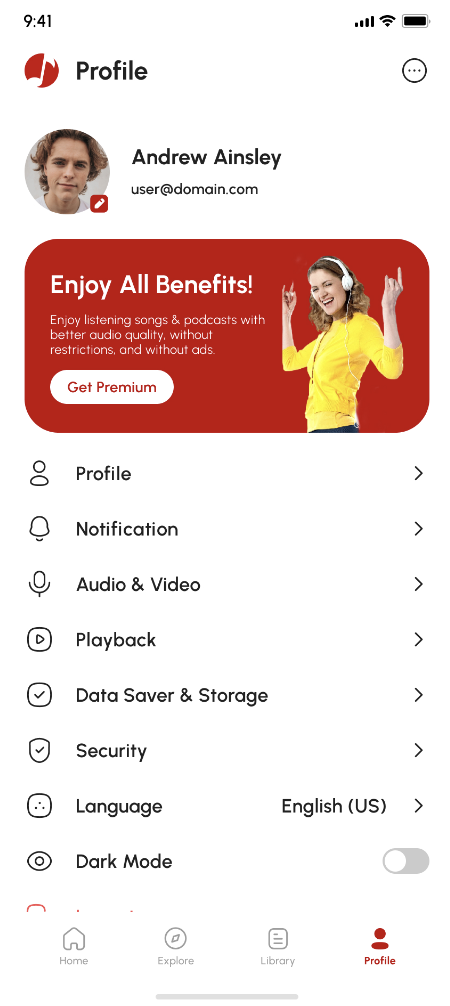IconButton: (397, 54, 430, 88)
